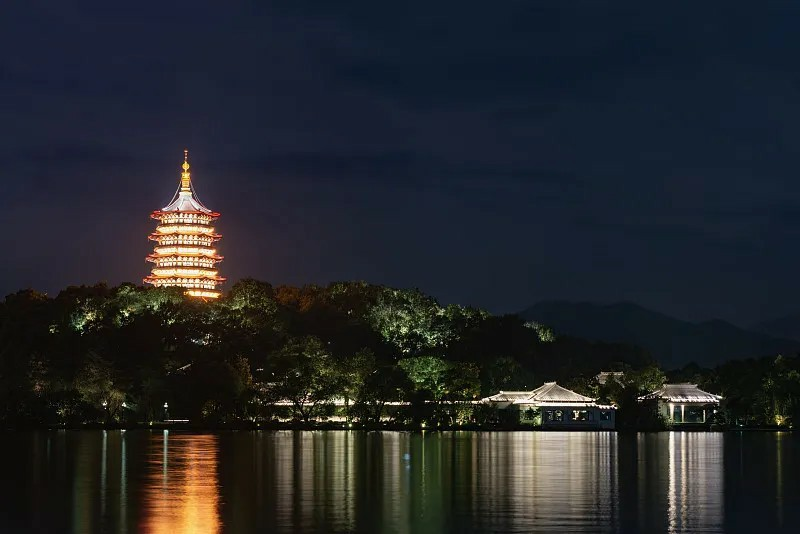Leifeng: (140, 149, 226, 300)
